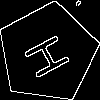H: (23, 28, 80, 81)
